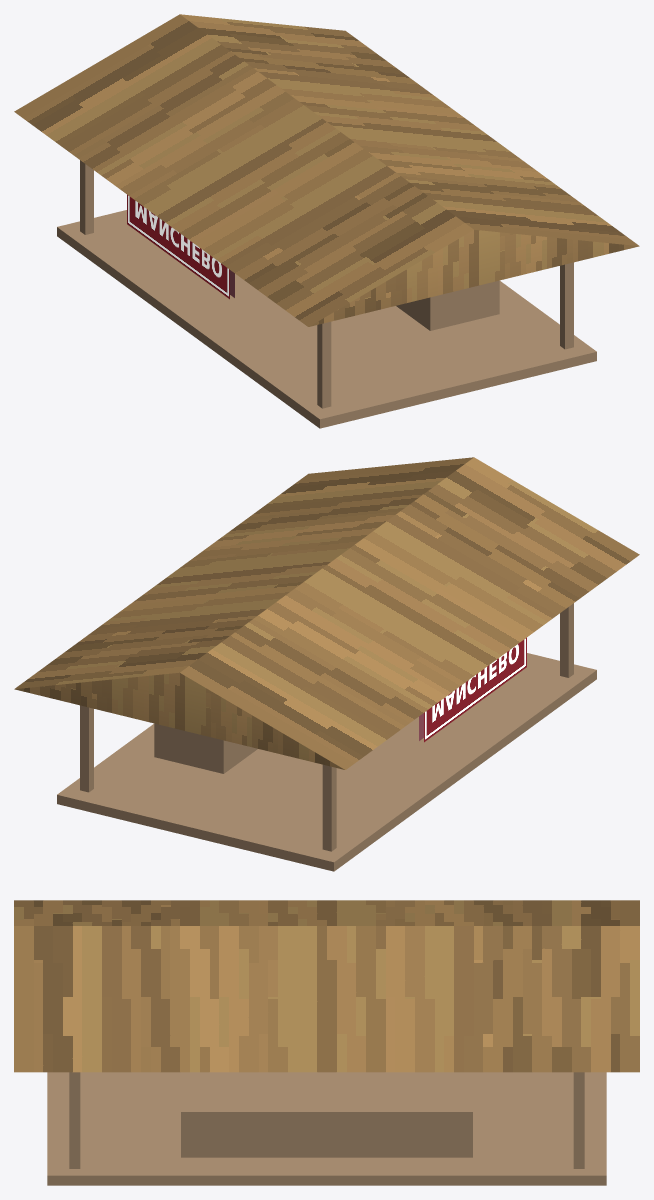
File: manchebo_bar.glb
3 renders of one model, top to bottom at view 1: azimuth 30°, elevation 25°; view 2: azimuth 150°, elevation 25°; view 3: azimuth 270°, elevation 25°, orthographic. The views are drawn at different scales.
Parts seen in each view (by area): view 1: manchebo_bar_lod0; view 2: manchebo_bar_lod0; view 3: manchebo_bar_lod0.
Part boxes in pixels (x1,y1,x2,y2): manchebo_bar_lod0: [14, 14, 639, 428]; manchebo_bar_lod0: [14, 457, 639, 871]; manchebo_bar_lod0: [14, 900, 639, 1185].
Size of what is drawn, in the model's own units: 6.7 by 3.45 by 10.3.
4 materials, 2 textured.
